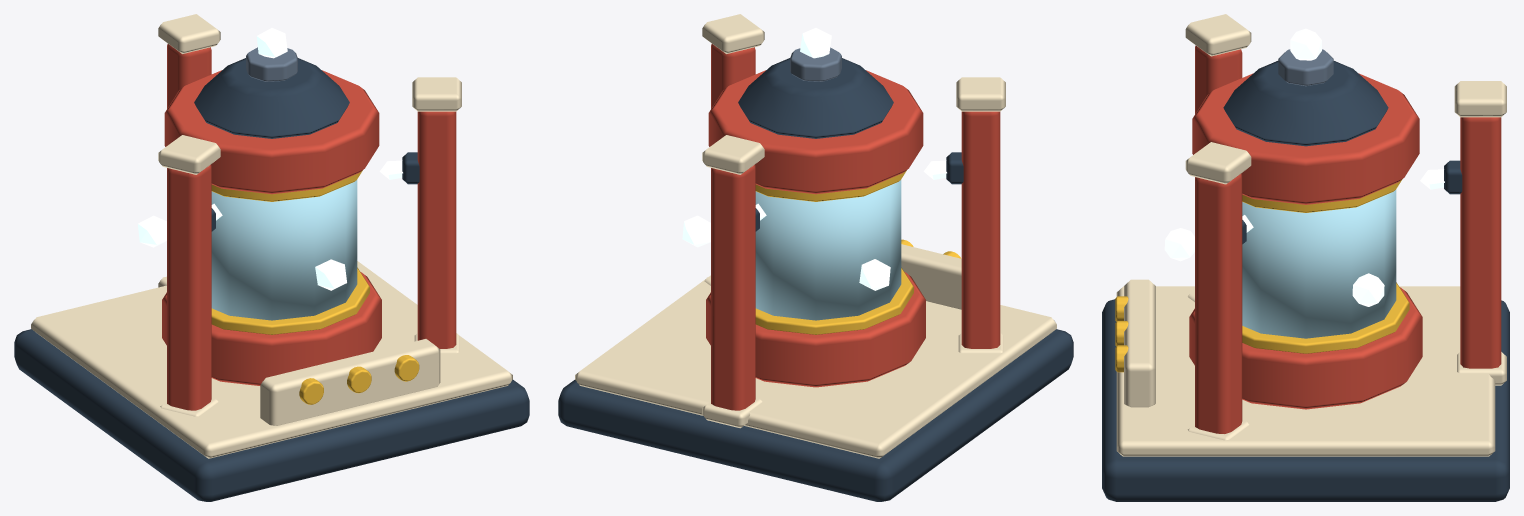
The model's file is PetFuser.fbx.
3 renders of one model, left to right at view 1: azimuth 30°, elevation 25°; view 2: azimuth 150°, elevation 25°; view 3: azimuth 270°, elevation 25°, orthographic. The views are drawn at different scales.
Visible parts, largest first — view 1: PetFuser__Trim__Cream, PetFuser__Base__Steel, PetFuser__Pillars__Red, PetFuser__Plinth__Red, PetFuser__Chamber__Glass, PetFuser__Dome__Steel, PetFuser__Caps__Cream, PetFuser__Rims__Yellow, PetFuser__Buttons__Yellow, PetFuser__DomeSteelLight__SteelLight, PetFuser__Orb3__Teal, PetFuser__Beacon__Teal (+2 smaller); view 2: PetFuser__Trim__Cream, PetFuser__Base__Steel, PetFuser__Plinth__Red, PetFuser__Pillars__Red, PetFuser__Chamber__Glass, PetFuser__Dome__Steel, PetFuser__Caps__Cream, PetFuser__Rims__Yellow, PetFuser__DomeSteelLight__SteelLight, PetFuser__Orb2__Teal, PetFuser__Beacon__Teal, PetFuser__Orb1__Teal (+1 smaller); view 3: PetFuser__Trim__Cream, PetFuser__Plinth__Red, PetFuser__Pillars__Red, PetFuser__Base__Steel, PetFuser__Chamber__Glass, PetFuser__Dome__Steel, PetFuser__Caps__Cream, PetFuser__Rims__Yellow, PetFuser__DomeSteelLight__SteelLight, PetFuser__Beacon__Teal, PetFuser__Orb1__Teal, PetFuser__Orb3__Teal (+2 smaller).
Boxes of the visible parts, x1,y1,x2,y2 form: PetFuser__Trim__Cream: (31, 261, 512, 458); PetFuser__Base__Steel: (14, 329, 529, 501); PetFuser__Pillars__Red: (167, 44, 456, 410); PetFuser__Plinth__Red: (162, 70, 381, 385); PetFuser__Chamber__Glass: (211, 180, 357, 320); PetFuser__Dome__Steel: (194, 58, 349, 138); PetFuser__Caps__Cream: (158, 14, 461, 416); PetFuser__Rims__Yellow: (211, 170, 369, 334); PetFuser__Buttons__Yellow: (299, 355, 419, 404); PetFuser__DomeSteelLight__SteelLight: (246, 47, 297, 81); PetFuser__Orb3__Teal: (315, 259, 346, 290); PetFuser__Beacon__Teal: (256, 28, 287, 58); PetFuser__Trim__Cream: (575, 244, 1056, 458); PetFuser__Base__Steel: (558, 329, 1073, 501); PetFuser__Plinth__Red: (706, 70, 925, 387); PetFuser__Pillars__Red: (711, 44, 1000, 410); PetFuser__Chamber__Glass: (755, 180, 901, 320); PetFuser__Dome__Steel: (738, 58, 893, 138); PetFuser__Caps__Cream: (702, 14, 1005, 428); PetFuser__Rims__Yellow: (755, 170, 913, 334); PetFuser__DomeSteelLight__SteelLight: (790, 47, 841, 81); PetFuser__Orb2__Teal: (859, 259, 890, 290); PetFuser__Beacon__Teal: (800, 28, 831, 58); PetFuser__Orb1__Teal: (682, 215, 710, 247); PetFuser__Trim__Cream: (1116, 279, 1495, 456); PetFuser__Plinth__Red: (1189, 73, 1422, 409); PetFuser__Pillars__Red: (1195, 45, 1501, 433); PetFuser__Base__Steel: (1102, 299, 1509, 501); PetFuser__Chamber__Glass: (1242, 189, 1396, 338); PetFuser__Dome__Steel: (1223, 61, 1388, 146); PetFuser__Caps__Cream: (1185, 14, 1506, 440); PetFuser__Rims__Yellow: (1242, 179, 1409, 353); PetFuser__DomeSteelLight__SteelLight: (1278, 49, 1333, 86); PetFuser__Beacon__Teal: (1290, 28, 1321, 60); PetFuser__Orb1__Teal: (1352, 273, 1384, 306); PetFuser__Orb3__Teal: (1164, 228, 1194, 261).
Bounding box in the file's own units: 7 × 7.44 × 7.
